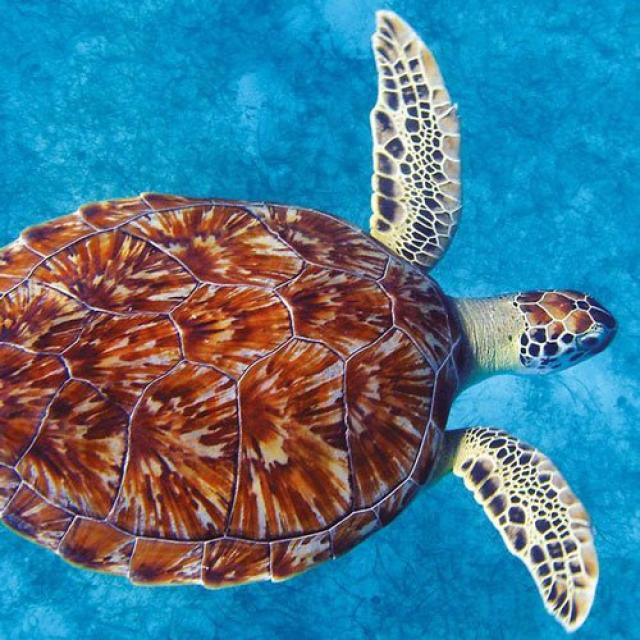turtle: (73, 146, 640, 588)
